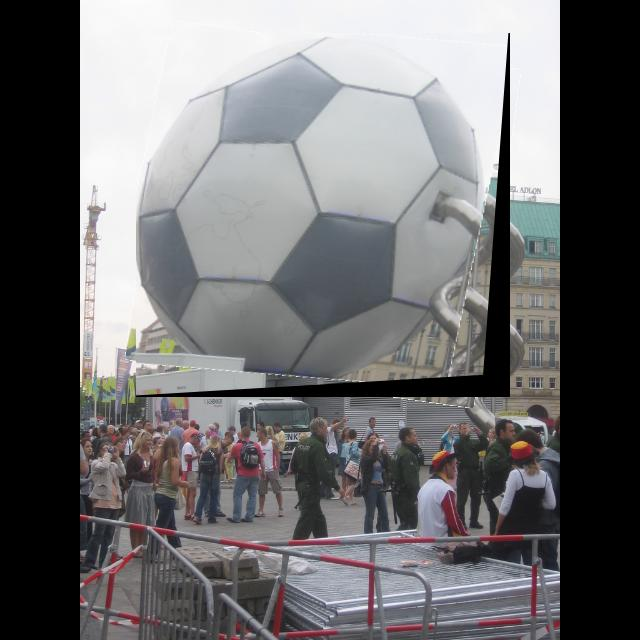Football: (136, 33, 510, 397)
